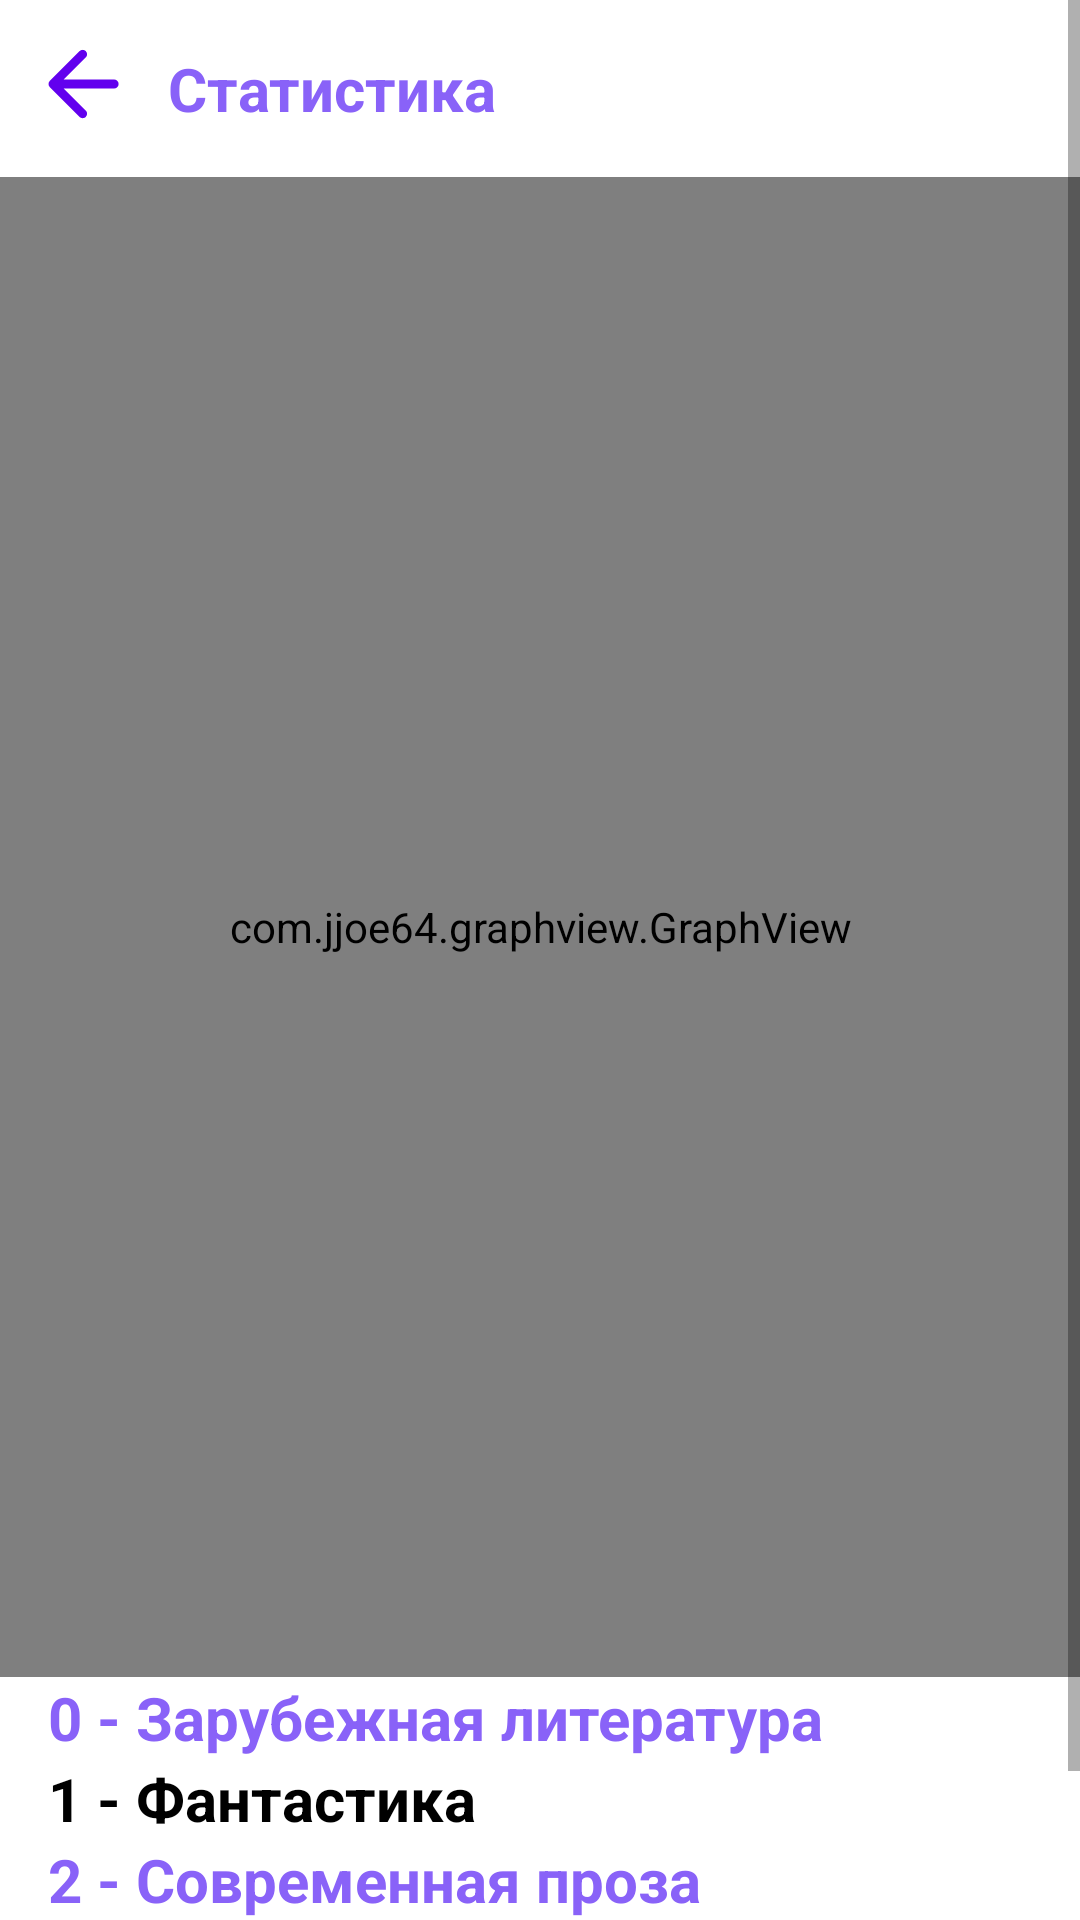

Named icons in this screenshot (1080px x 1920px) and their centers, (x,y):
arrow left: (83,84)
